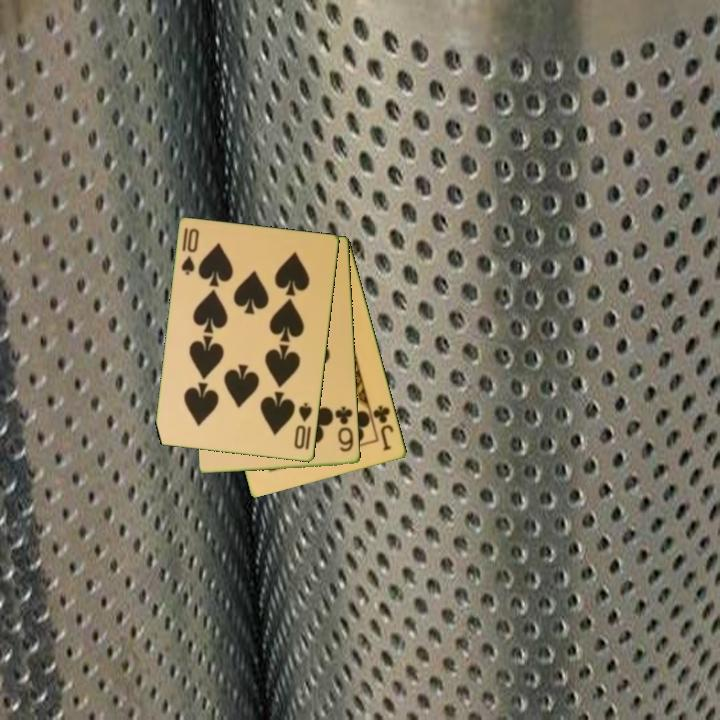10s: (178, 224, 202, 278), (291, 399, 315, 452)
6c: (332, 403, 357, 455)
Jc: (370, 402, 397, 454)
